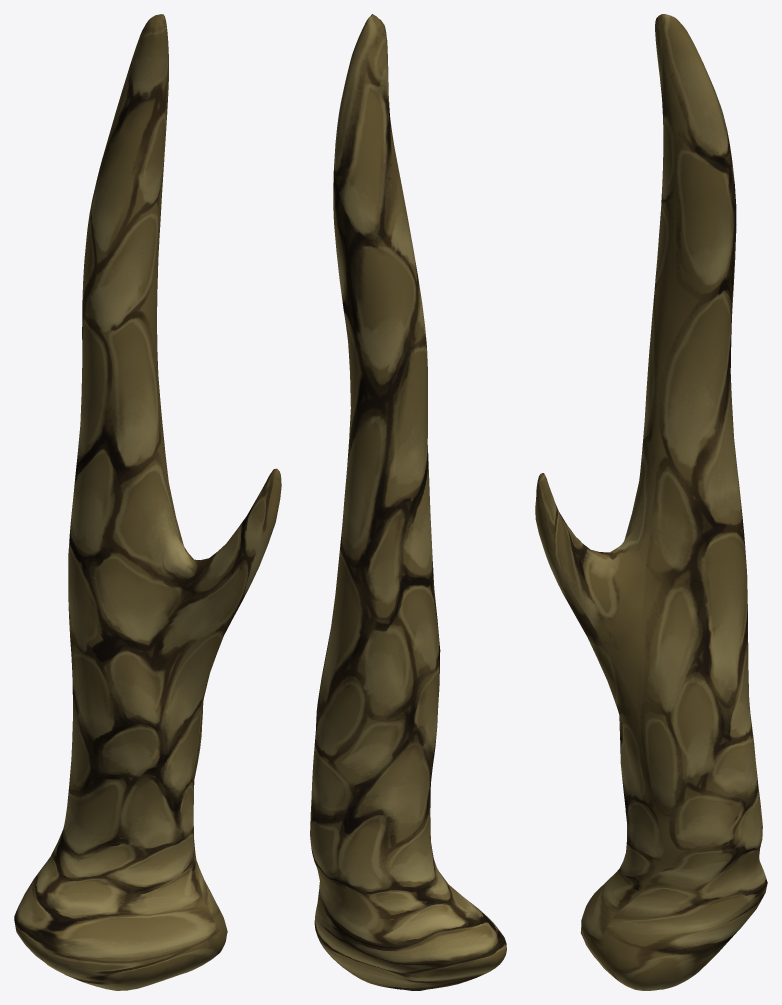
The model's file is branch1_fat.fbx.
3 renders of one model, left to right at view 1: azimuth 30°, elevation 25°; view 2: azimuth 150°, elevation 25°; view 3: azimuth 270°, elevation 25°, orthographic.
Visible parts, largest first — view 1: branch5; view 2: branch5; view 3: branch5.
Boxes of the visible parts, x1,y1,x2,y2 form: branch5: (14, 14, 281, 990); branch5: (310, 14, 506, 990); branch5: (535, 14, 767, 990).
Bounding box in the file's own units: 126 × 597 × 130.
Materials: 1 (1 with a texture image).
